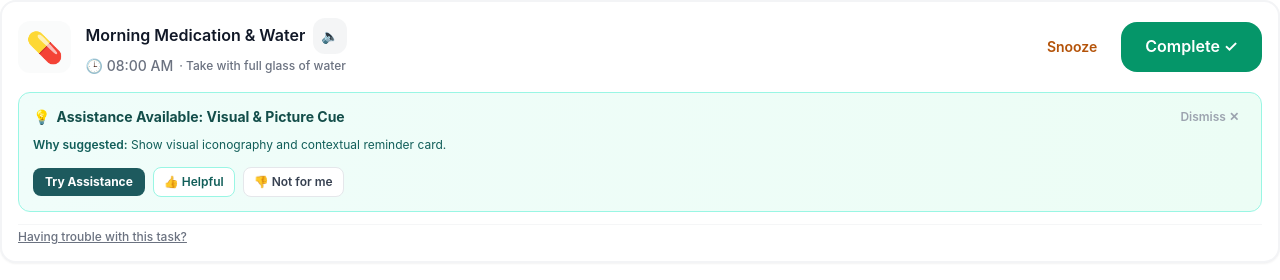
Test: Priority 1: TaskCard Adaptive Assistance Integration › 7. Rating as "Not for me" suppresses the recommendation for that activity
Check: the element with test id "adaptive-assistance-tray" is shown, box [18,92,1262,212]
Click the button "👎 Not for me" at (293, 182), box [243,166,344,196]
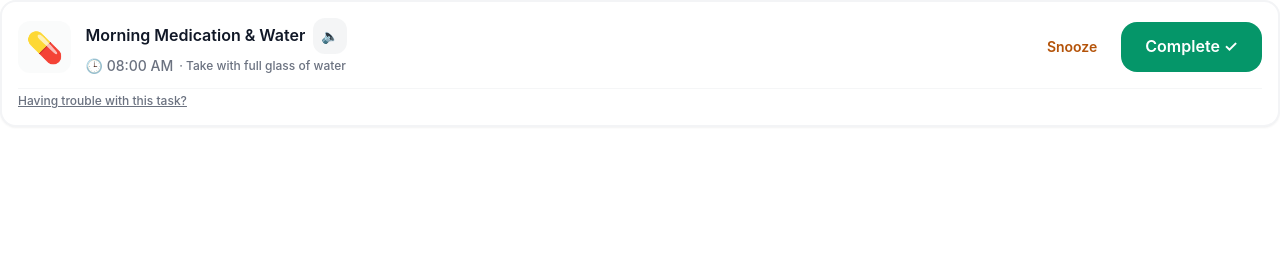
Check: the element with test id "adaptive-assistance-tray" is gone
